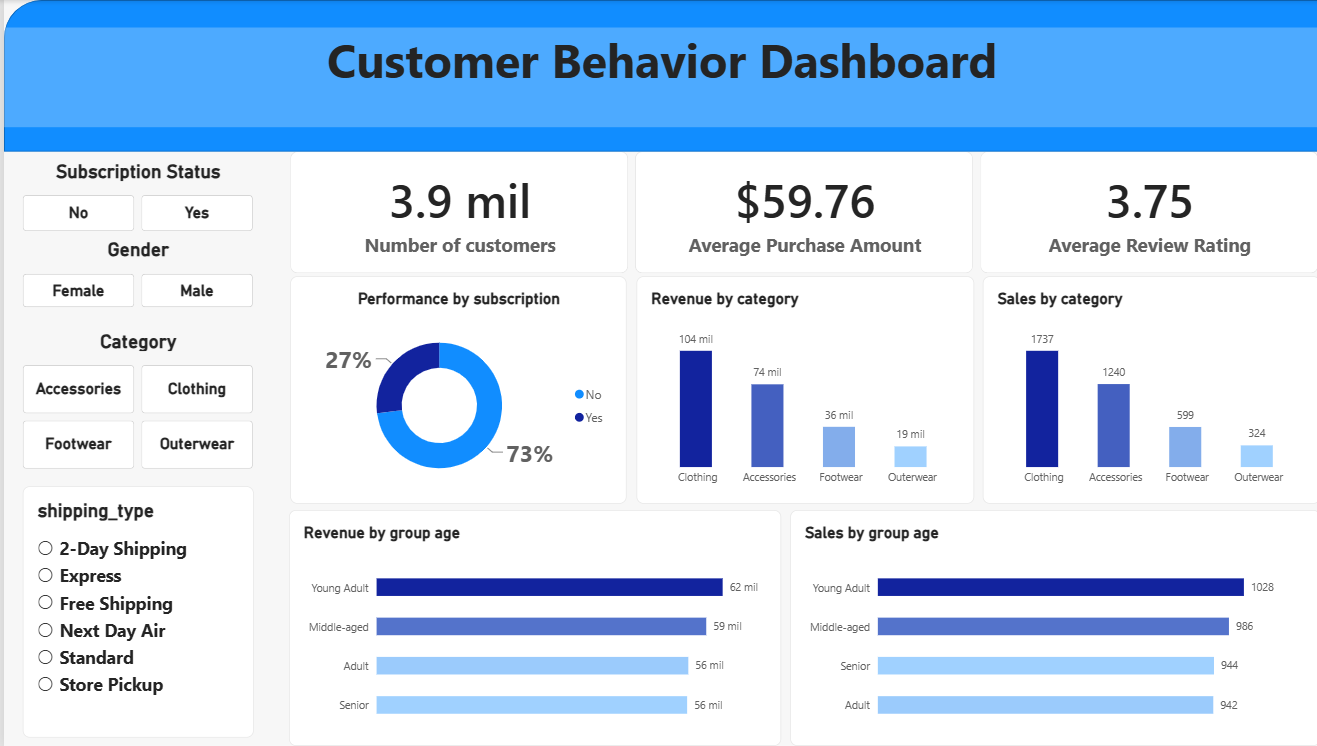

This screenshot's page, from the dashboard's own definition file:
{"tool":"powerbi","page":{"name":"Página 1","canvas":[1500,850],"ordinal":0},"visuals":[{"type":"cardVisual","fields":{"Data":["Medidas.Number of customers","Medidas.Average Purchase Amount","Medidas.Average Review Rating"]},"box":[326.2,172.3,1173.6,139.6],"z":0},{"type":"shape","box":[0,0,1920.4,172.9],"z":1000},{"type":"textbox","box":[0,31.3,1499.8,113.9],"z":2000},{"type":"donutChart","title":"Performance by subscription","fields":{"Y":["CountNonNull(public customer_behavior.customer_id)"],"Category":["public customer_behavior.subscription_status"]},"box":[326.4,315,383.1,259.2],"z":3000},{"type":"clusteredColumnChart","title":"Revenue by category","fields":{"Category":["public customer_behavior.category"],"Y":["Sum(public customer_behavior.purchase_amount)"]},"box":[720.9,315,384.6,259.2],"z":4000},{"type":"clusteredColumnChart","title":"Sales by category","fields":{"Category":["public customer_behavior.category"],"Y":["CountNonNull(public customer_behavior.purchase_amount)"]},"box":[1115.4,315,384.6,259.2],"z":5000},{"type":"advancedSlicerVisual","title":"Subscription Status","fields":{"Values":["public customer_behavior.subscription_status"]},"box":[21.4,182.3,263.5,81.2],"z":6000},{"type":"advancedSlicerVisual","title":"Gender","fields":{"Values":["public customer_behavior.gender"]},"box":[21.4,272,263.5,78.3],"z":7000},{"type":"advancedSlicerVisual","title":"Category","fields":{"Values":["public customer_behavior.category"]},"box":[21.4,376,263.5,158.1],"z":8000},{"type":"listSlicer","fields":{"Values":["public customer_behavior.shipping_type"]},"box":[21.4,554,263.5,286.3],"z":9000},{"type":"clusteredBarChart","title":"Revenue by group age","fields":{"Y":["Sum(public customer_behavior.purchase_amount)"],"Category":["public customer_behavior.age_group"]},"box":[324.7,581.1,561.2,269.2],"z":10000},{"type":"clusteredBarChart","title":"Sales by group age","fields":{"Y":["CountNonNull(public customer_behavior.purchase_amount)"],"Category":["public customer_behavior.age_group"]},"box":[895.9,581.1,603.9,269.2],"z":11000}]}

Visuals, with their boxes in screenshot pixels (x1, y1, x2, y2), scaled from the page's 1500x850 canvas onto the 1317x746 screenshot:
cardVisual - Medidas.Number of customers x Medidas.Average Purchase Amount: 286/151/1316/274
shape: 0/0/1316/152
textbox: 0/27/1316/127
"Performance by subscription" donutChart: 287/276/623/504
"Revenue by category" clusteredColumnChart: 633/276/971/504
"Sales by category" clusteredColumnChart: 979/276/1316/504
"Subscription Status" advancedSlicerVisual: 19/160/250/231
"Gender" advancedSlicerVisual: 19/239/250/307
"Category" advancedSlicerVisual: 19/330/250/469
listSlicer - public customer_behavior.shipping_type: 19/486/250/737
"Revenue by group age" clusteredBarChart: 285/510/778/745
"Sales by group age" clusteredBarChart: 787/510/1316/745
